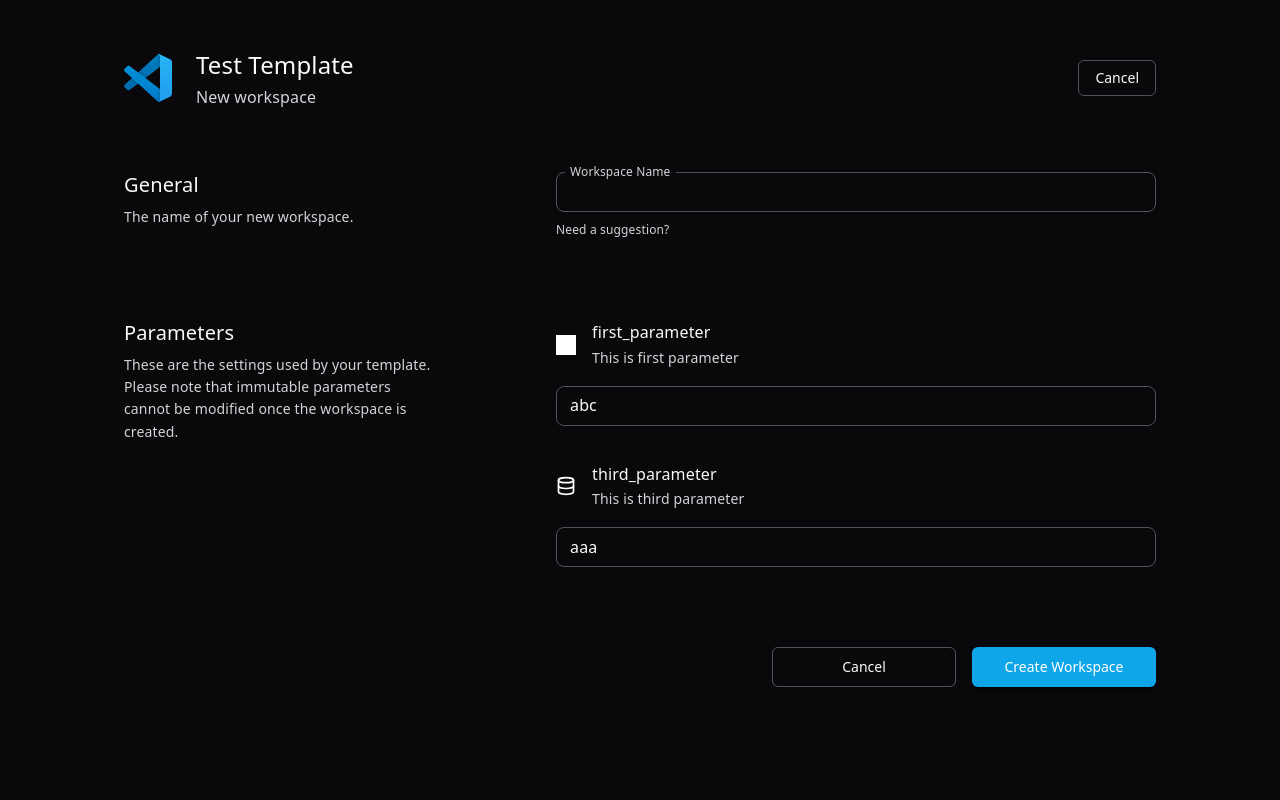
Test: CreateWorkspacePage › rich parameter: string validation fails
Expected: the button "Create Workspace" is shown, [972, 647, 1156, 687]
Expected: the text "This is third parameter" is shown, [592, 487, 744, 511]
Type "1234" into the field labelled "third_parameter".
click(856, 547); type("1234")  # box [556, 519, 1156, 575]
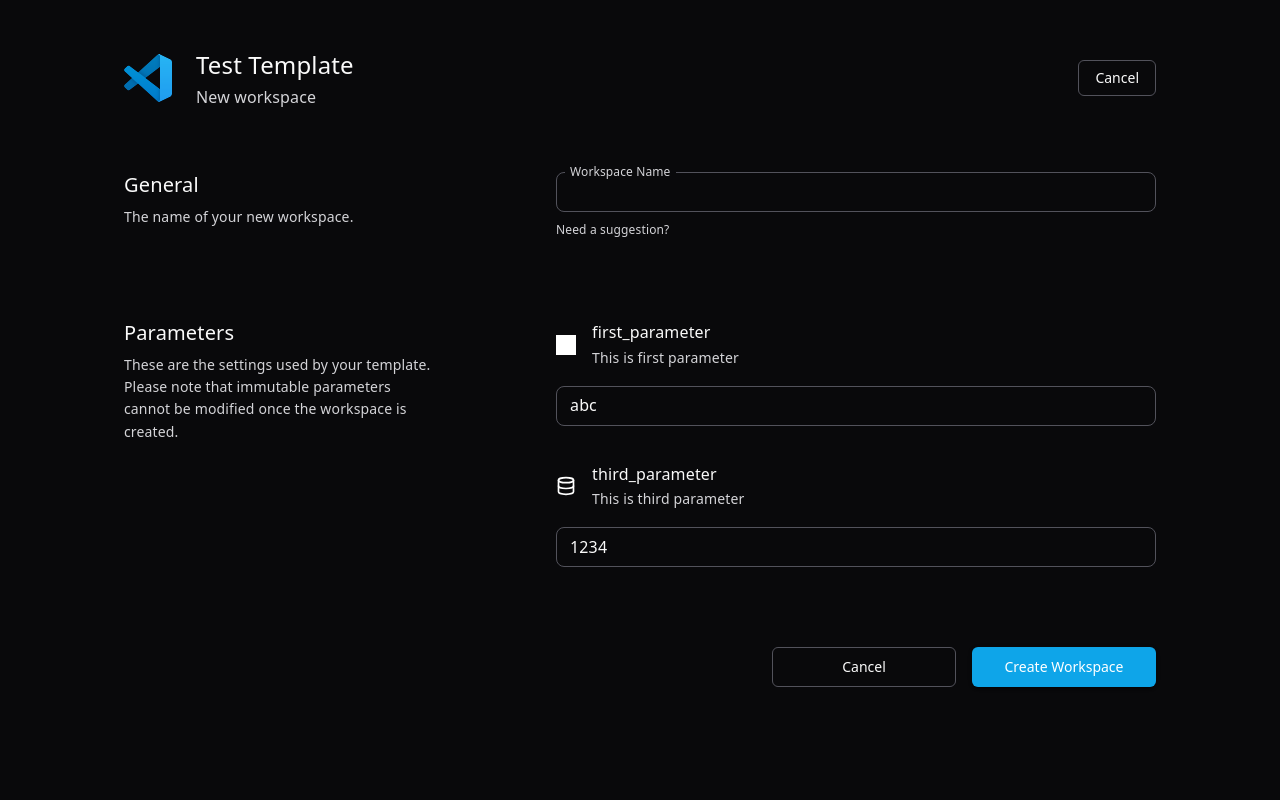
Submit the form from the field labelled "third_parameter", box [556, 519, 1156, 575]
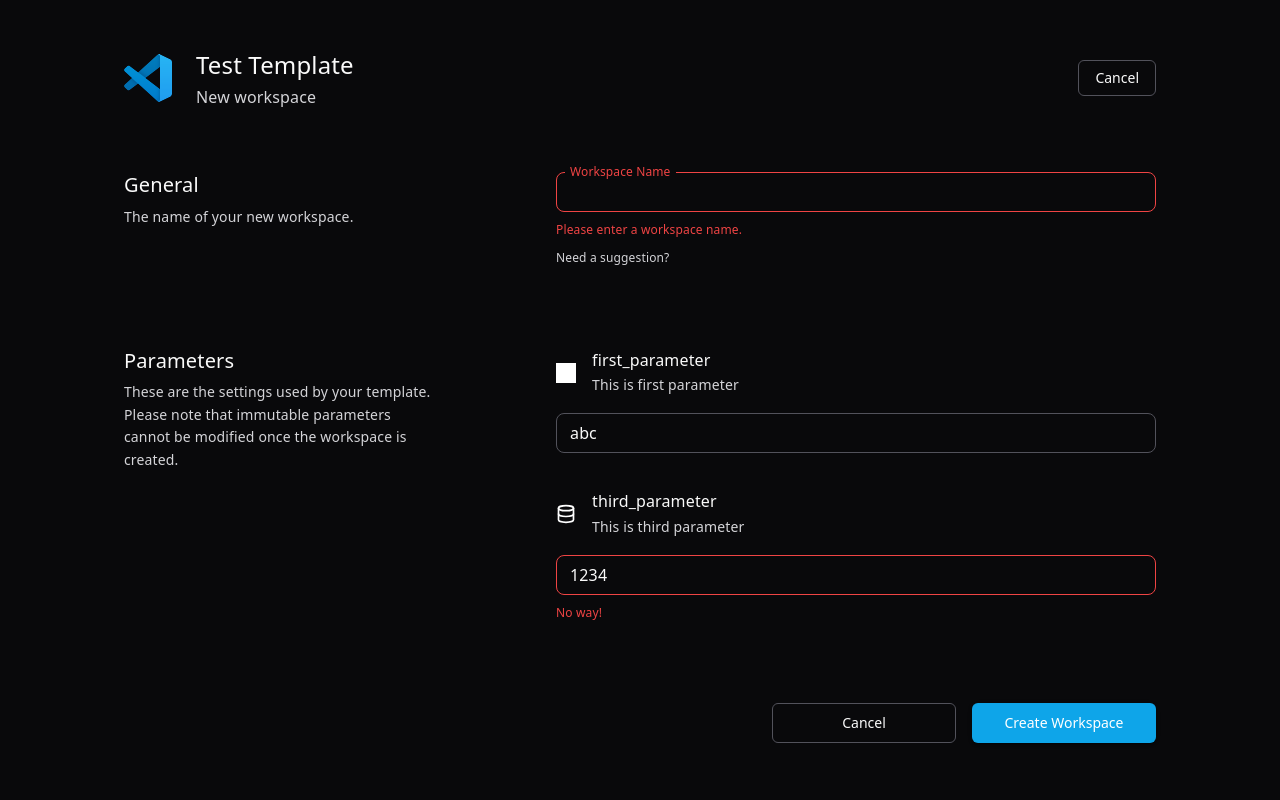
Expected: the text "No way!" is shown, [556, 604, 602, 621]
